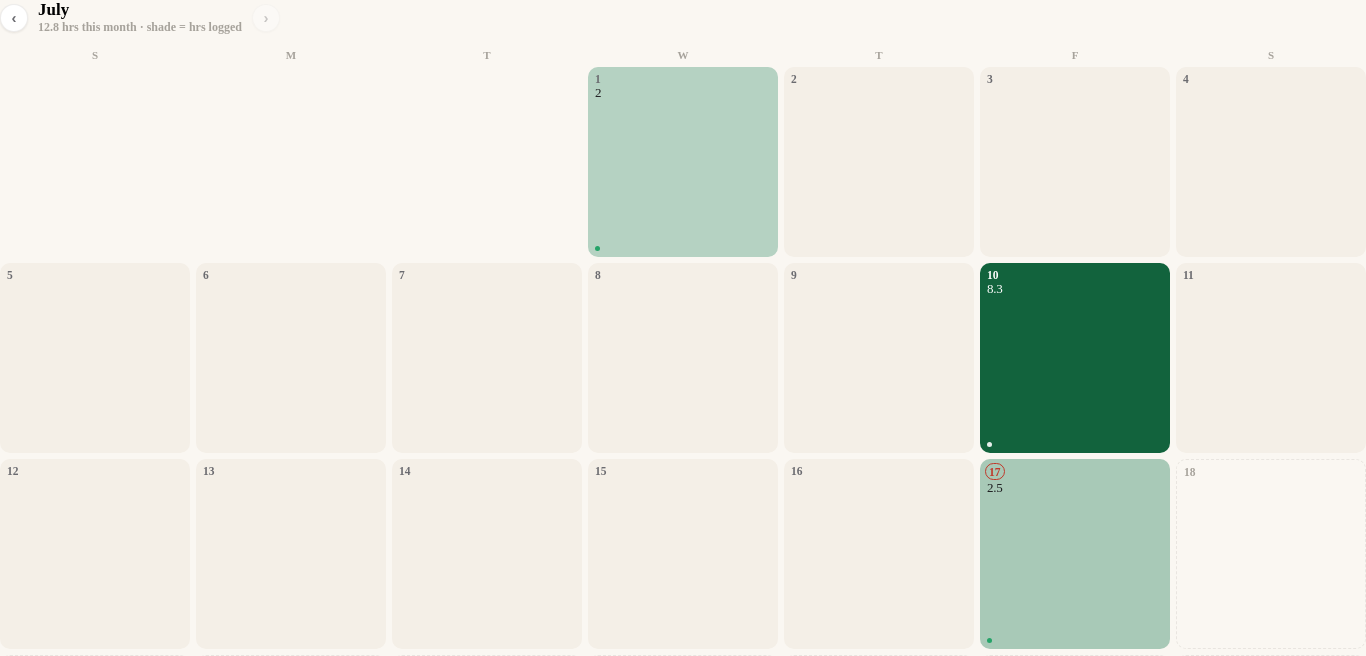
Scenario: MonthHeatmap › navigates to the previous month, and blocks paging past the current month
Expected: the button named "Next month" is disabled, top-left (252, 4), bottom-right (280, 32)
Click the button named "Previous month". click: (14, 18)
box: top-left (0, 4), bottom-right (28, 32)
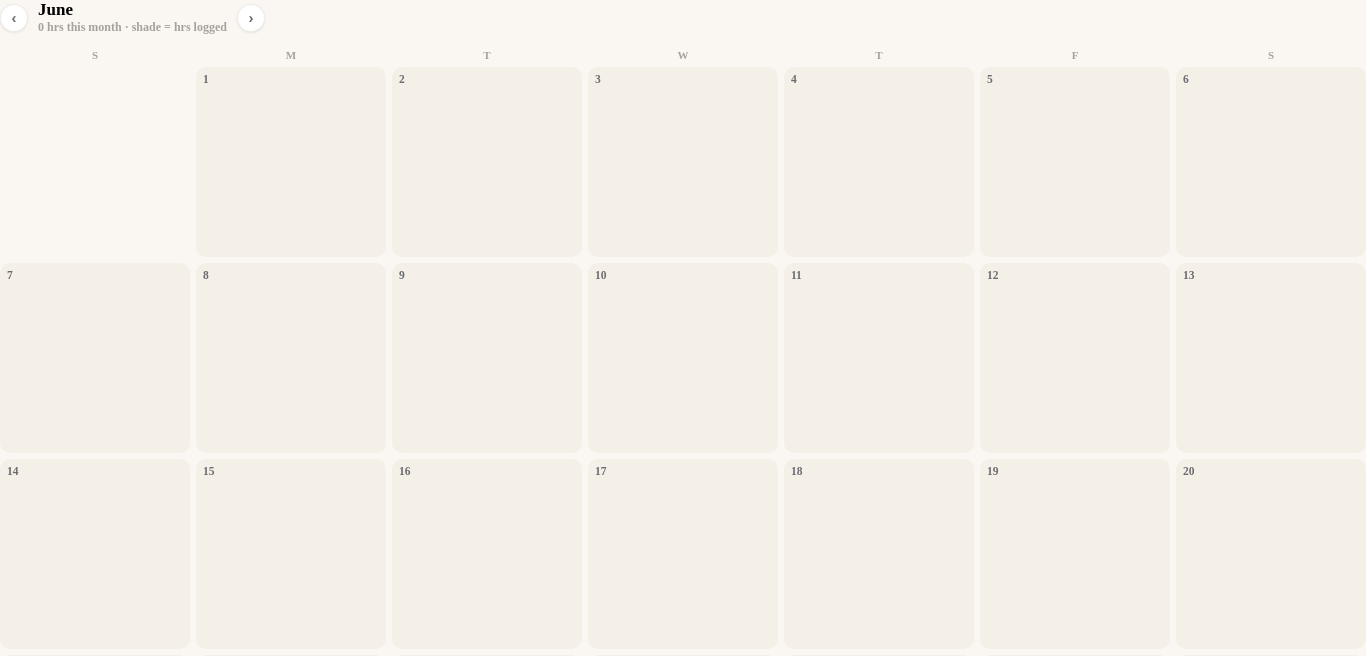
Now the text "June" is shown, box top-left (38, 0), bottom-right (73, 19)
Now the button named "Next month" is enabled
Click the button named "Next month". click: (251, 18)
box: top-left (237, 4), bottom-right (265, 32)
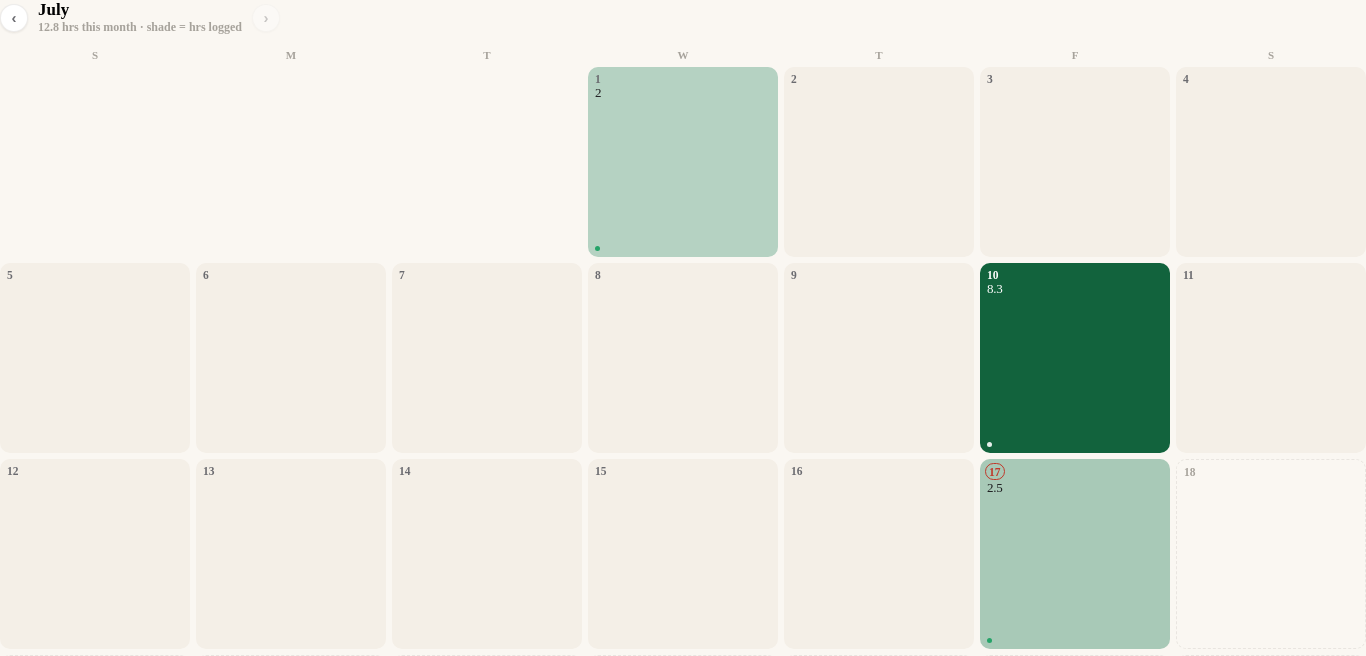
Expected: the button named "Next month" is disabled, top-left (252, 4), bottom-right (280, 32)
Now the text "July" is shown, box top-left (38, 0), bottom-right (69, 19)
